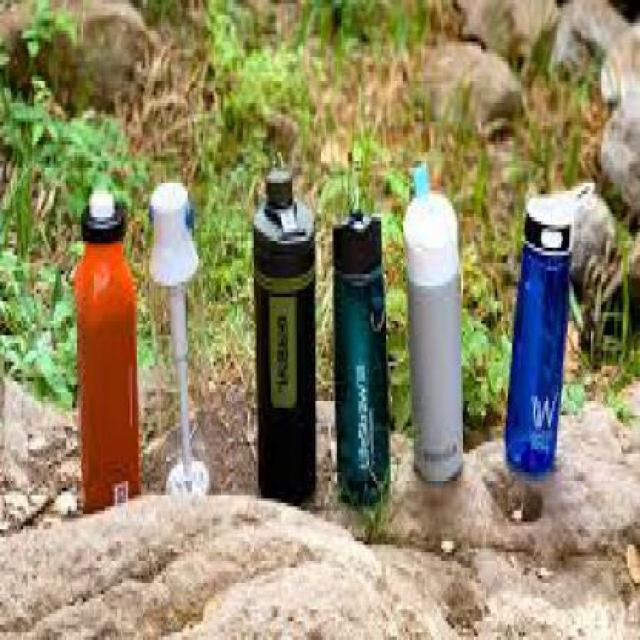Drinking: (226, 148, 325, 546), (55, 172, 143, 538), (493, 164, 576, 522)
